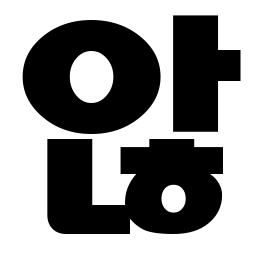Gaji: (165, 39, 231, 94)
